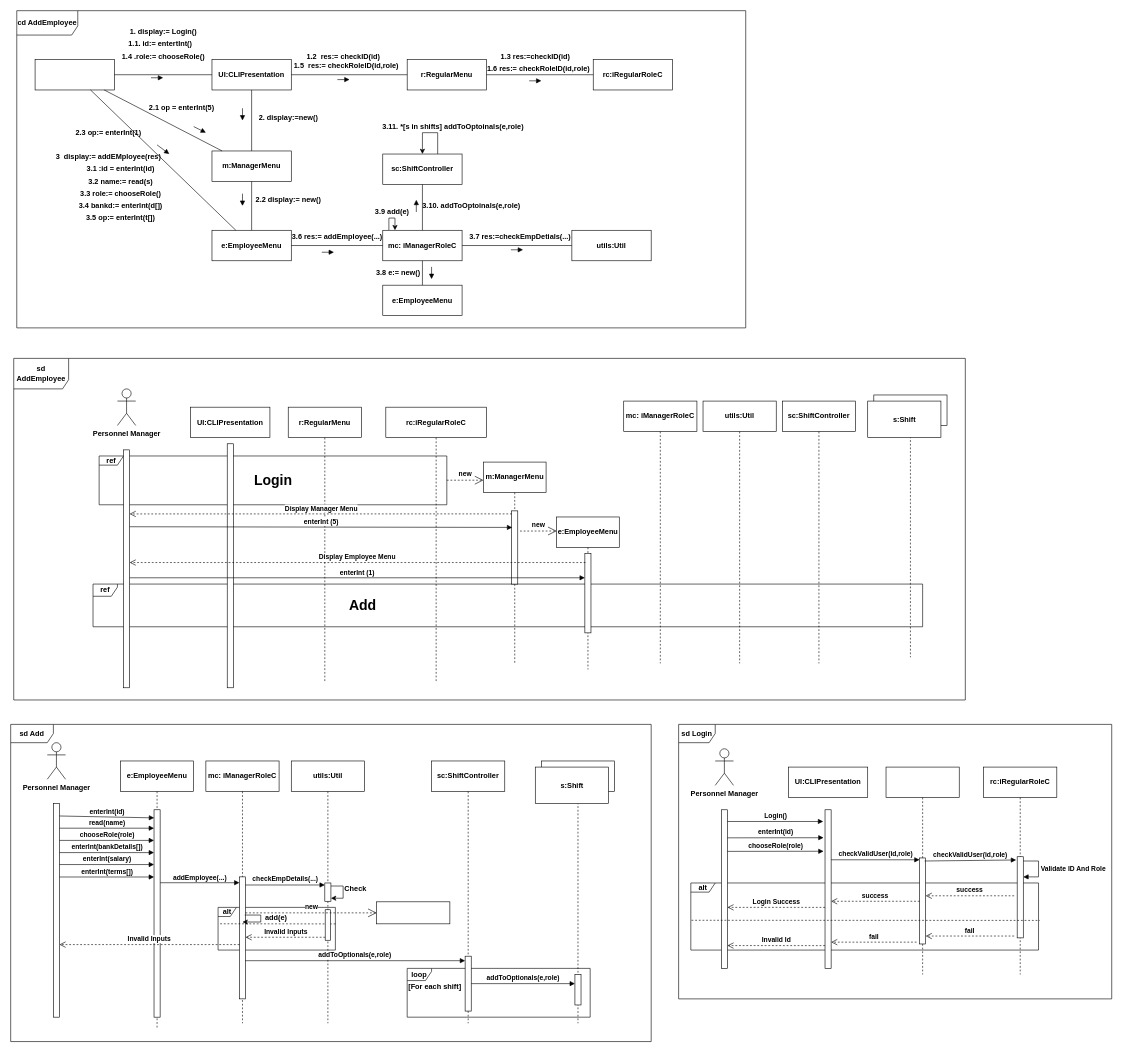
Image size: 1122x1052. Some labels were removed from this diagram. The centre of each missing label's shape, as x and y in pixels:
e:Employee: [413,912]
GUI: [74,74]
RegularMenu: Menu: [922,870]
